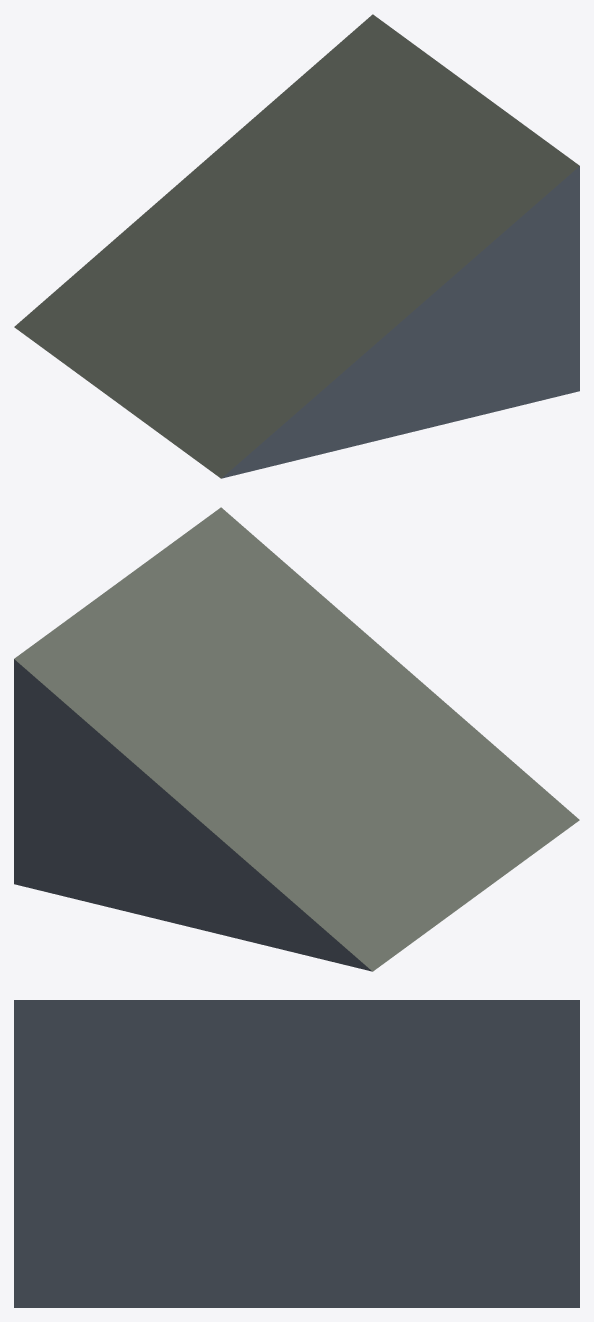
Rendered from slope30.fbx.
The picture shows the model from 3 angles, top to bottom: view 1: azimuth 30°, elevation 25°; view 2: azimuth 150°, elevation 25°; view 3: azimuth 270°, elevation 25°; orthographic projection. The views are drawn at different scales.
Visible parts, largest first — view 1: Mesh; view 2: Mesh; view 3: Mesh.
Boxes of the visible parts, left/top/right/bottom form: Mesh: left=14, top=14, right=579, bottom=478; Mesh: left=14, top=507, right=579, bottom=971; Mesh: left=14, top=1000, right=579, bottom=1307.
Bounding box in the file's own units: 100 × 60 × 100.
